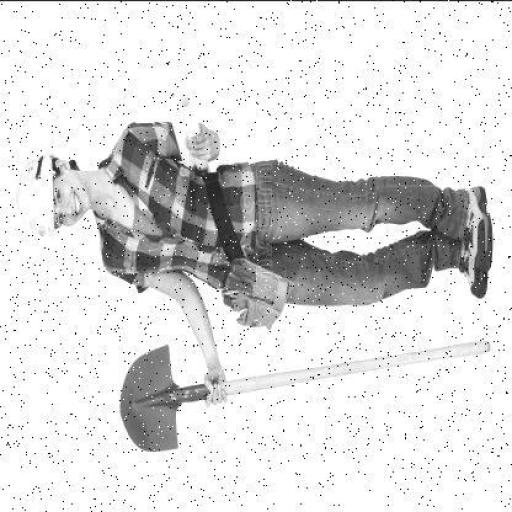person: (16, 90, 494, 346)
safety_shoe: (455, 164, 495, 266), (456, 238, 484, 300)
